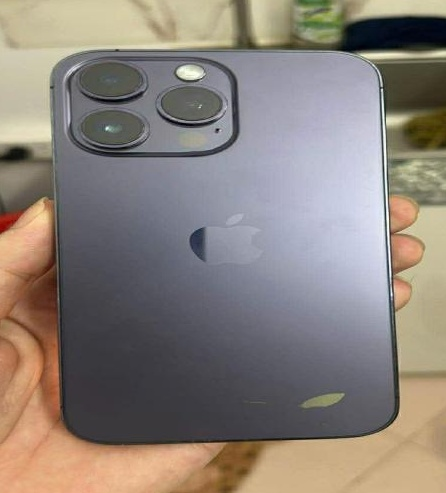scratch: (293, 382, 350, 414), (232, 389, 282, 417)
